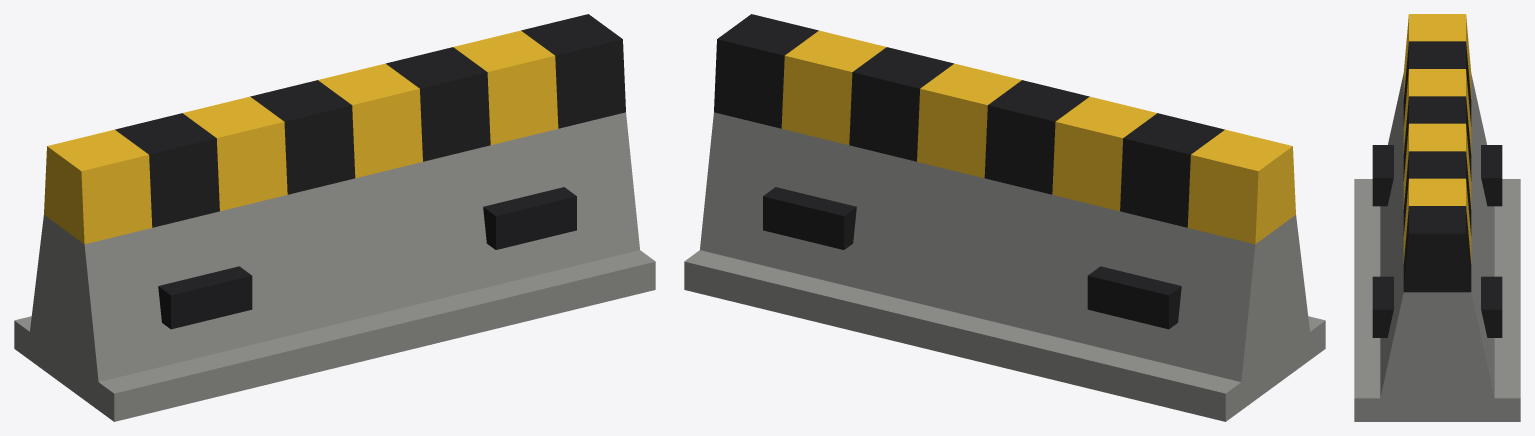
File: barrier.glb
The picture shows the model from 3 angles, left to right: view 1: azimuth 30°, elevation 25°; view 2: azimuth 150°, elevation 25°; view 3: azimuth 270°, elevation 25°; orthographic projection. The views are drawn at different scales.
Visible parts, largest first — view 1: Barrier; view 2: Barrier; view 3: Barrier.
Part boxes in pixels (box(x1,y1,x2,y2)): Barrier: box(14, 14, 655, 421); Barrier: box(684, 14, 1325, 421); Barrier: box(1354, 14, 1520, 421).
Bounding box in the file's own units: 2 × 0.8 × 0.64.
